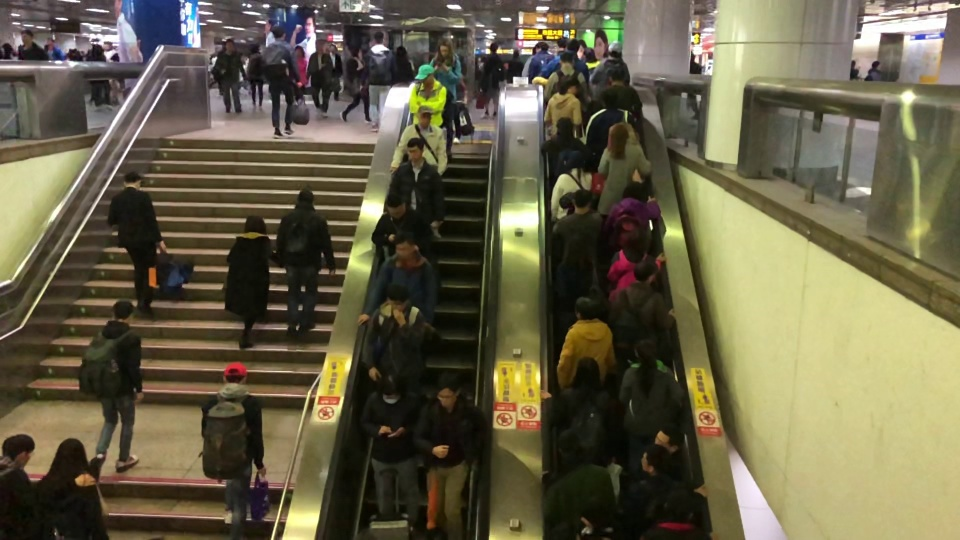person_head: (44, 438, 89, 490), (570, 356, 601, 398), (1, 433, 35, 469), (620, 228, 652, 262), (557, 430, 587, 464), (641, 444, 671, 475), (561, 231, 591, 262), (435, 375, 462, 409), (606, 123, 629, 161), (654, 424, 684, 453), (663, 497, 694, 524), (380, 373, 404, 406), (386, 283, 409, 315), (632, 258, 658, 286), (633, 338, 657, 368), (575, 295, 599, 324), (222, 361, 248, 387), (622, 181, 649, 205), (572, 188, 594, 217), (110, 300, 135, 325), (385, 192, 406, 219), (394, 233, 416, 257), (243, 214, 268, 235), (414, 64, 435, 89), (600, 87, 620, 111), (406, 137, 424, 162), (607, 63, 628, 84), (562, 150, 584, 170), (555, 116, 574, 139), (416, 105, 433, 130), (558, 78, 581, 96), (436, 38, 454, 61), (122, 171, 142, 191), (296, 188, 315, 207), (607, 41, 624, 59), (582, 46, 598, 64), (558, 53, 576, 69), (272, 26, 286, 42), (20, 29, 34, 44), (395, 44, 408, 60), (372, 31, 385, 45), (294, 44, 306, 59), (535, 42, 549, 54), (351, 46, 363, 59), (568, 39, 580, 52), (91, 44, 103, 56), (556, 37, 568, 49), (315, 39, 325, 53), (1, 42, 14, 52), (225, 38, 235, 51), (45, 37, 55, 49), (249, 44, 261, 54), (329, 43, 338, 56), (102, 41, 113, 51), (489, 43, 498, 53), (872, 60, 881, 70), (512, 48, 520, 59), (689, 50, 695, 62), (850, 58, 856, 68)
person_vbox: (198, 361, 268, 540), (412, 376, 486, 540), (78, 301, 144, 471), (360, 373, 424, 531), (539, 355, 622, 464), (276, 188, 336, 337), (108, 170, 168, 317), (362, 283, 439, 396), (358, 236, 441, 331), (626, 449, 711, 540), (222, 215, 280, 348), (389, 106, 447, 239), (35, 438, 110, 540), (617, 337, 684, 448), (607, 261, 677, 362), (383, 137, 445, 237), (557, 295, 618, 393), (539, 465, 616, 540), (550, 189, 603, 289), (597, 123, 651, 217), (547, 224, 607, 306), (371, 194, 439, 266), (603, 182, 661, 265), (604, 228, 667, 302), (586, 88, 638, 173), (263, 26, 302, 139), (429, 38, 461, 160), (360, 32, 398, 132), (542, 116, 587, 200), (1, 434, 35, 540), (549, 151, 592, 223), (543, 53, 591, 113), (211, 39, 248, 114), (538, 38, 589, 91), (339, 46, 372, 123), (599, 63, 642, 121), (409, 64, 446, 130), (543, 79, 582, 141), (591, 41, 630, 100), (478, 43, 505, 119), (305, 39, 331, 117), (87, 43, 111, 110), (245, 44, 264, 110), (528, 41, 555, 84), (103, 40, 120, 106), (689, 49, 703, 120), (17, 30, 49, 61), (293, 44, 309, 104), (327, 43, 343, 102), (393, 44, 415, 82), (581, 46, 601, 75), (507, 49, 524, 83), (45, 36, 66, 61), (863, 60, 881, 81), (1, 42, 19, 61), (848, 58, 862, 80)
